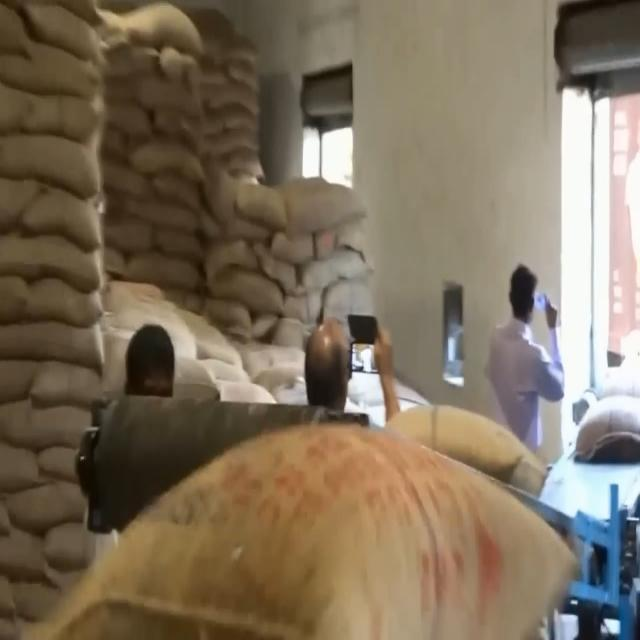gunny_bag: (25, 418, 580, 640), (386, 402, 550, 488), (0, 316, 112, 381), (0, 232, 106, 296), (0, 136, 105, 197), (23, 187, 106, 255), (108, 0, 206, 55), (279, 178, 369, 235), (0, 48, 110, 94), (15, 276, 106, 328), (28, 3, 103, 65), (21, 357, 110, 407), (10, 473, 83, 532), (204, 262, 280, 318), (129, 137, 208, 186), (295, 244, 368, 295), (573, 406, 640, 459), (119, 250, 202, 292), (126, 198, 197, 236), (234, 180, 284, 227), (203, 82, 263, 120), (154, 226, 202, 266), (109, 101, 154, 143), (212, 34, 258, 66)
